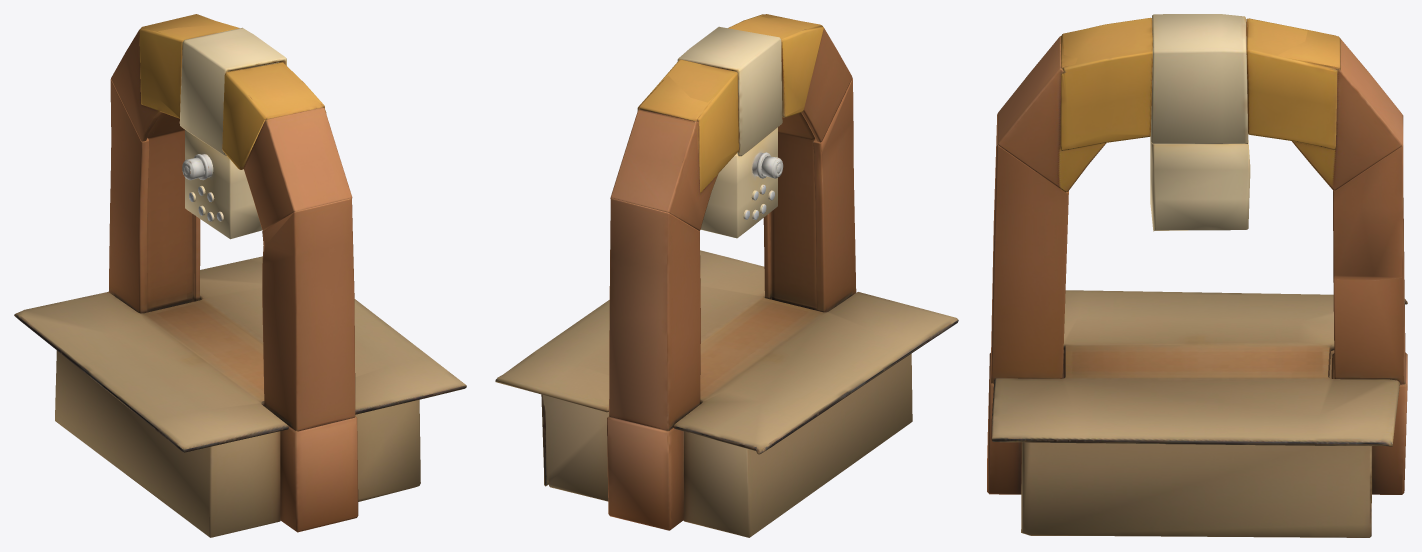
3 views of the same model, side by side, from view 1: azimuth 30°, elevation 25°; view 2: azimuth 150°, elevation 25°; view 3: azimuth 270°, elevation 25° (orthographic). The views are drawn at different scales.
Visible parts, largest first — view 1: tripo_node_303c4296-8c4a-41ef-aa29-b5dcc502d491; view 2: tripo_node_303c4296-8c4a-41ef-aa29-b5dcc502d491; view 3: tripo_node_303c4296-8c4a-41ef-aa29-b5dcc502d491.
Boxes of the visible parts, x1=… form: tripo_node_303c4296-8c4a-41ef-aa29-b5dcc502d491: x1=14, y1=14, x2=466, y2=537; tripo_node_303c4296-8c4a-41ef-aa29-b5dcc502d491: x1=495, y1=14, x2=958, y2=537; tripo_node_303c4296-8c4a-41ef-aa29-b5dcc502d491: x1=987, y1=14, x2=1407, y2=537.
Size of the model in its own units: 0.7251 by 0.9995 by 0.8394.
Materials: 1 (1 with a texture image).
